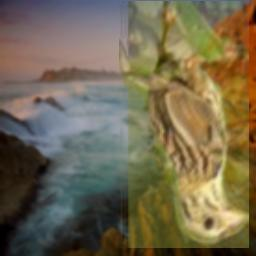Sparrow: (119, 1, 249, 248)
